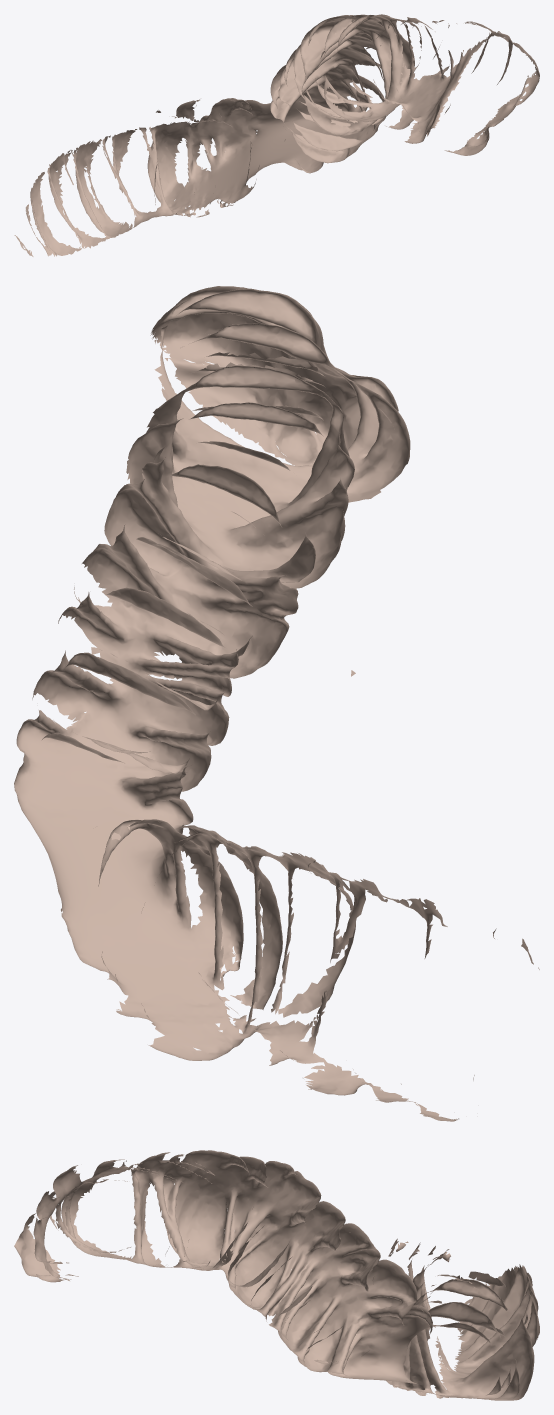
Rendered from vrcaps_colon_17_gt.glb.
3 renders of one model, top to bottom at view 1: azimuth 30°, elevation 25°; view 2: azimuth 150°, elevation 25°; view 3: azimuth 270°, elevation 25°, orthographic. The views are drawn at different scales.
Bounding box in the file's own units: 13.67 × 9.9 × 14.19.
